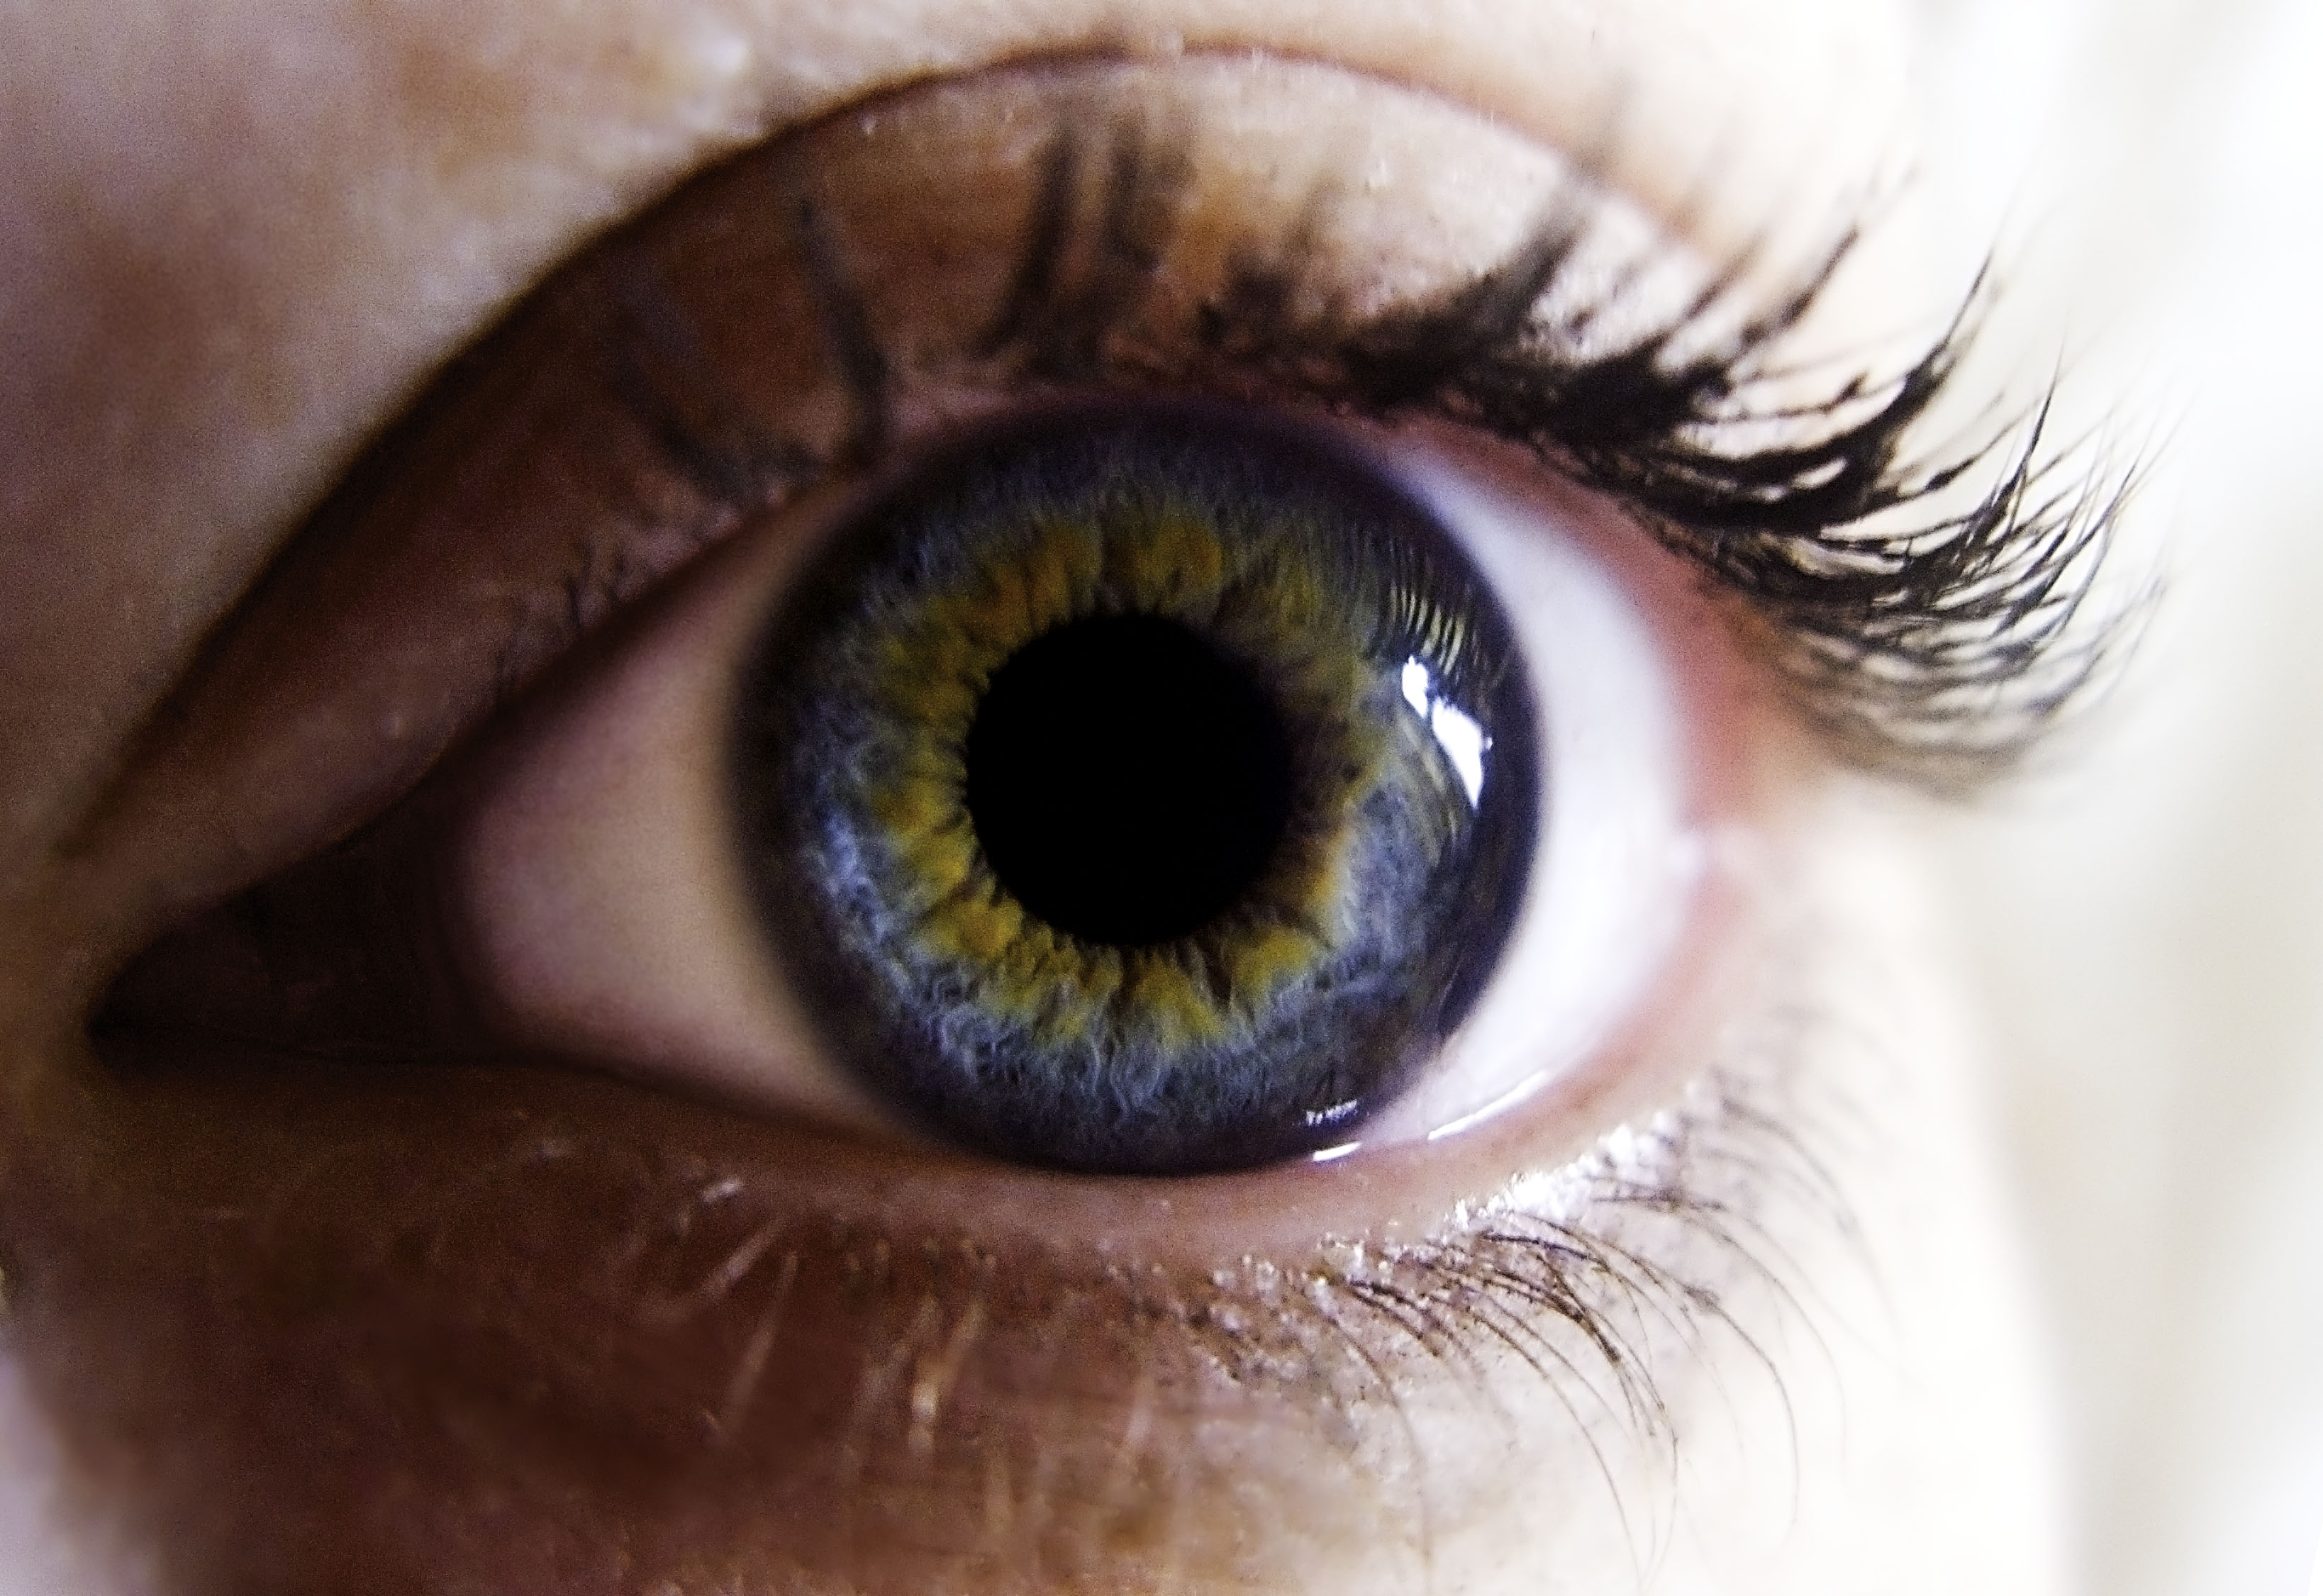iris: (721, 389, 1539, 1171)
pupil: (977, 615, 1327, 954)
